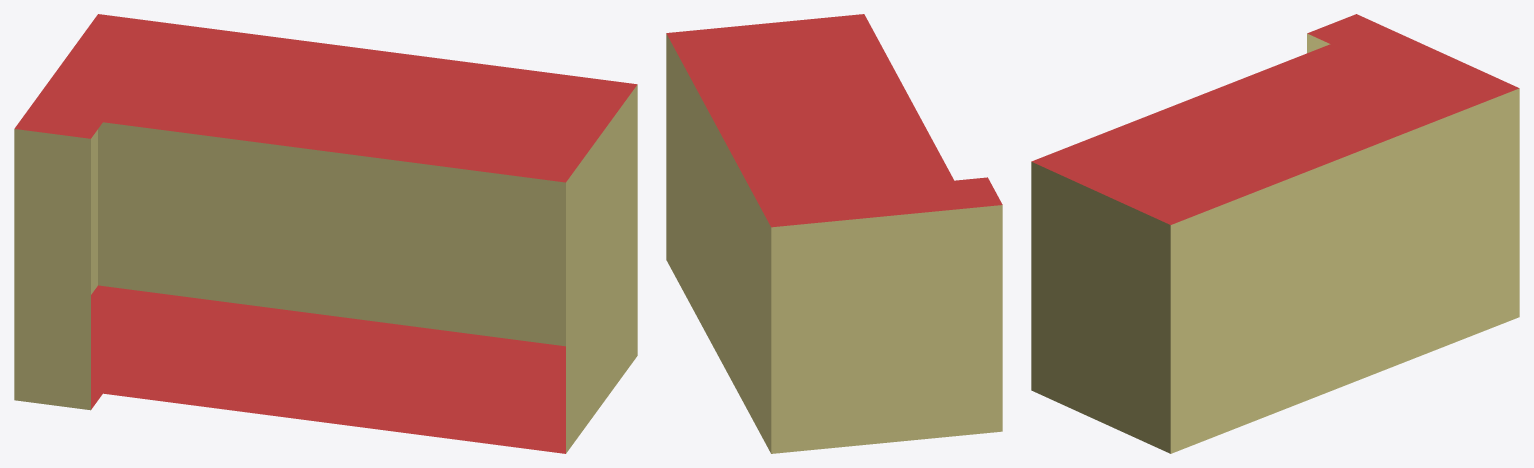
3 views of the same model, side by side, from view 1: azimuth 30°, elevation 25°; view 2: azimuth 150°, elevation 25°; view 3: azimuth 270°, elevation 25° (orthographic). The views are drawn at different scales.
Size of the model in its own units: 11.72 by 11.46 by 5.92.
